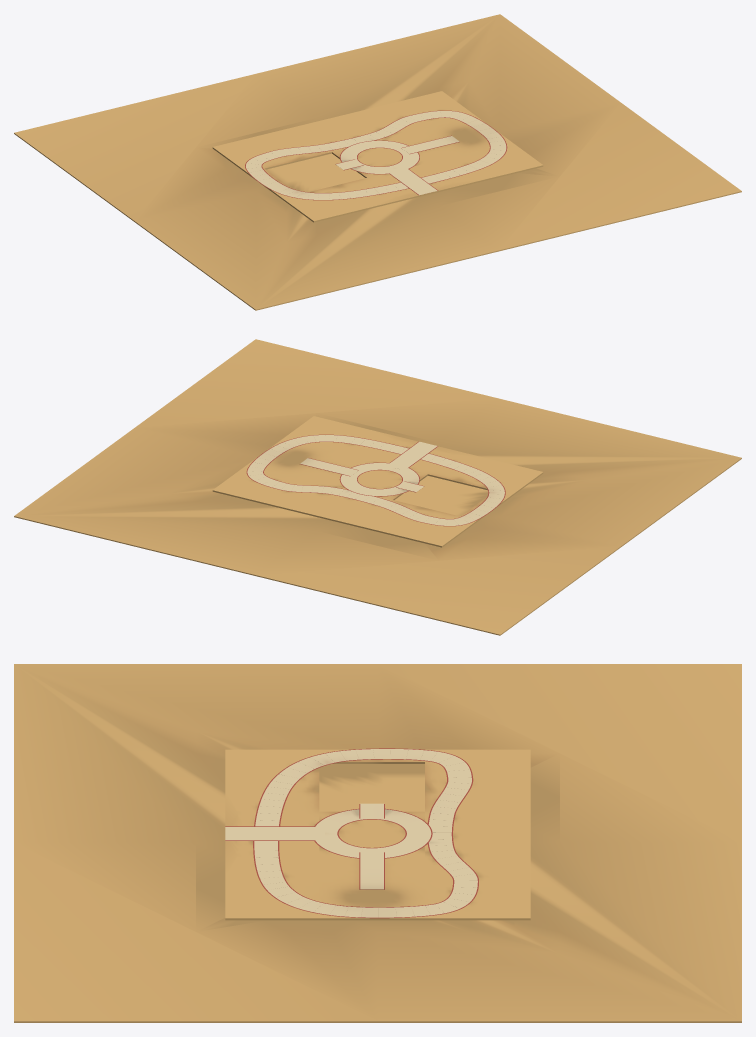
The model's file is grounds.glb.
3 views of the same model, one above another, from view 1: azimuth 30°, elevation 25°; view 2: azimuth 150°, elevation 25°; view 3: azimuth 270°, elevation 25° (orthographic). The views are drawn at different scales.
Parts seen in each view (by area): view 1: grounds; view 2: grounds; view 3: grounds.
Boxes of the visible parts, x1,y1,x2,y2 form: grounds: [14, 14, 741, 310]; grounds: [14, 339, 741, 635]; grounds: [14, 664, 741, 1022].
Size of the model in its own units: 144 by 2.02 by 124.
